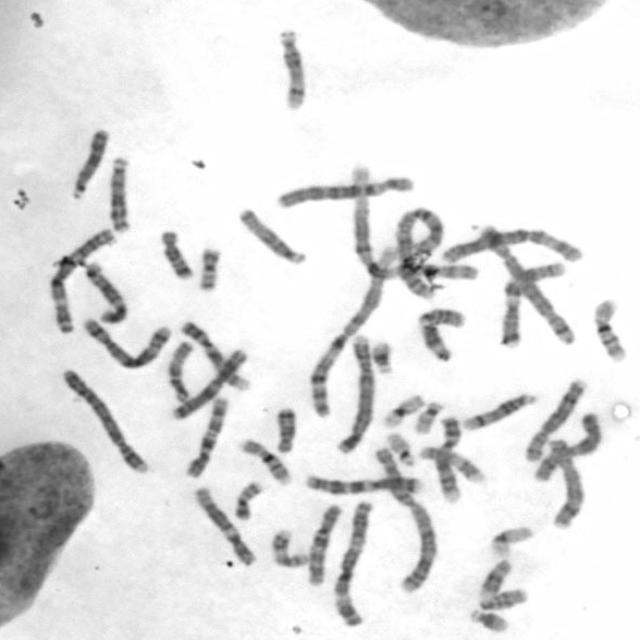A1: (304, 240, 400, 421), (344, 160, 482, 282)
A2: (371, 442, 439, 595), (389, 202, 446, 300)
A3: (44, 224, 116, 336), (328, 496, 376, 629)
B4: (58, 364, 151, 475), (332, 329, 375, 455)
B5: (472, 218, 584, 347), (77, 314, 173, 371)
C10: (180, 392, 230, 480), (303, 500, 344, 587)
C11: (415, 308, 469, 362), (476, 560, 529, 611)
C12: (189, 483, 258, 568), (80, 258, 130, 324)
C6: (438, 225, 586, 264), (272, 172, 417, 210)
C7: (496, 260, 566, 350), (302, 469, 424, 497)
C8: (520, 375, 588, 464), (543, 436, 587, 530)
C9: (176, 318, 252, 392), (430, 414, 464, 504)
D13: (65, 124, 111, 201), (103, 152, 133, 235)
D14: (457, 390, 539, 432), (272, 24, 309, 114)
D15: (235, 203, 308, 266), (163, 338, 195, 403)
E16: (237, 435, 293, 485), (589, 295, 628, 363)
E17: (414, 442, 486, 485), (267, 526, 311, 570)
E18: (156, 226, 194, 282), (271, 404, 298, 454)
F19: (378, 391, 426, 430), (486, 524, 534, 556)
F20: (230, 477, 266, 521), (194, 242, 224, 293)
G21: (466, 605, 510, 634), (368, 337, 396, 376)
G22: (383, 428, 417, 468), (409, 398, 445, 435)
X: (167, 346, 249, 421), (528, 409, 603, 483)
